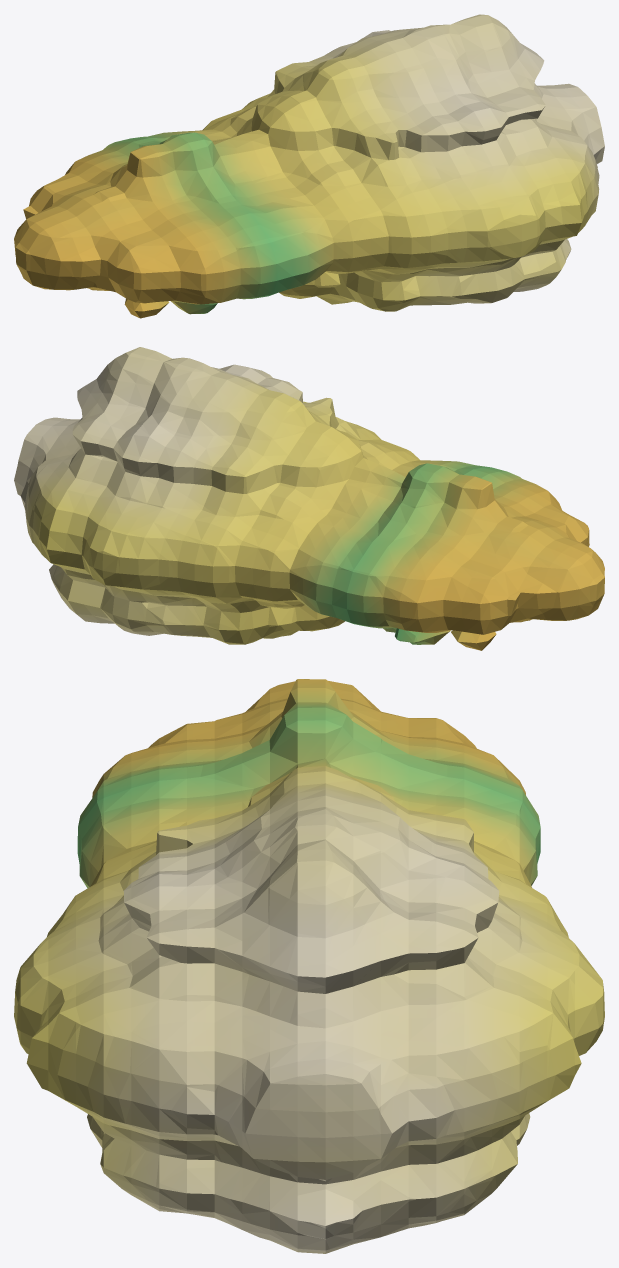
3 renders of one model, top to bottom at view 1: azimuth 30°, elevation 25°; view 2: azimuth 150°, elevation 25°; view 3: azimuth 270°, elevation 25°, orthographic. The views are drawn at different scales.
Visible parts, largest first — view 1: geometry_0; view 2: geometry_0; view 3: geometry_0.
Part boxes in pixels (x1,y1,x2,y2): geometry_0: (14,14,604,318); geometry_0: (14,347,604,650); geometry_0: (14,679,604,1253).
Size of the model in its own units: 1.52 by 0.6551 by 0.907.
